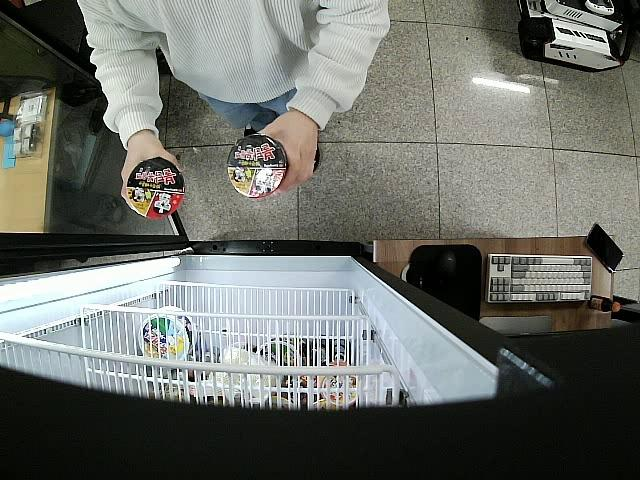00_hand: (257, 113, 318, 193), (118, 140, 181, 202)
08_buldak_S: (227, 135, 291, 201), (124, 157, 184, 222)
